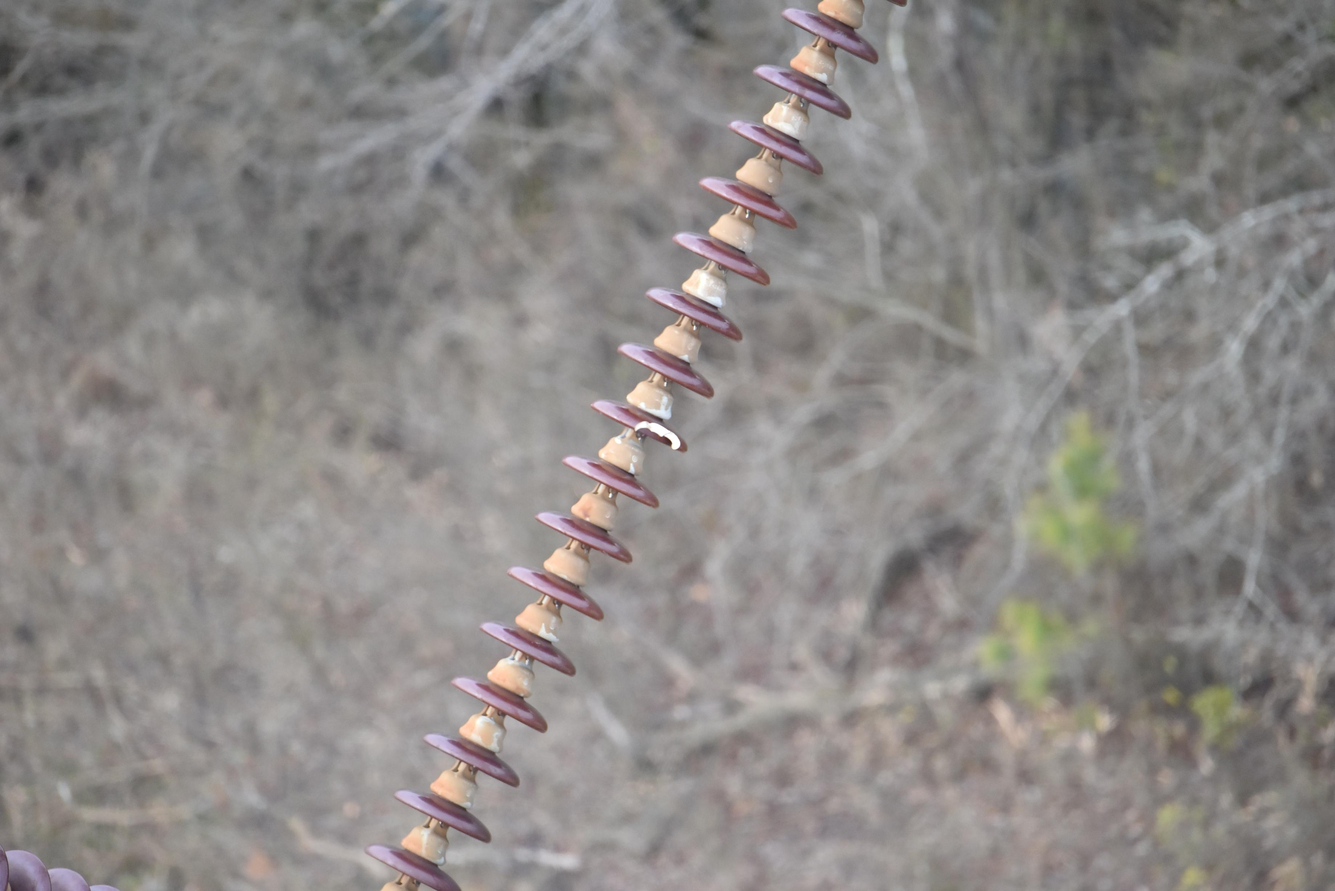damaged: (625, 409, 688, 452)
insulator: (366, 0, 909, 891), (0, 847, 131, 891)
